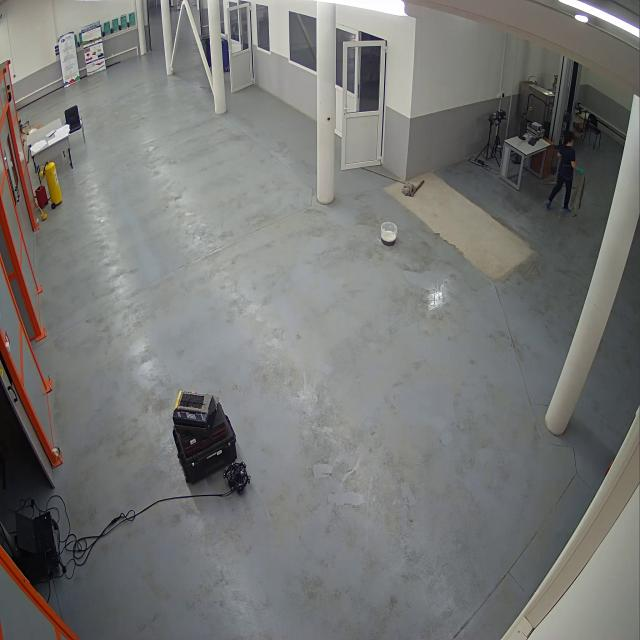NO-Hardhat: (564, 125, 576, 140)
Person: (547, 122, 581, 217)
